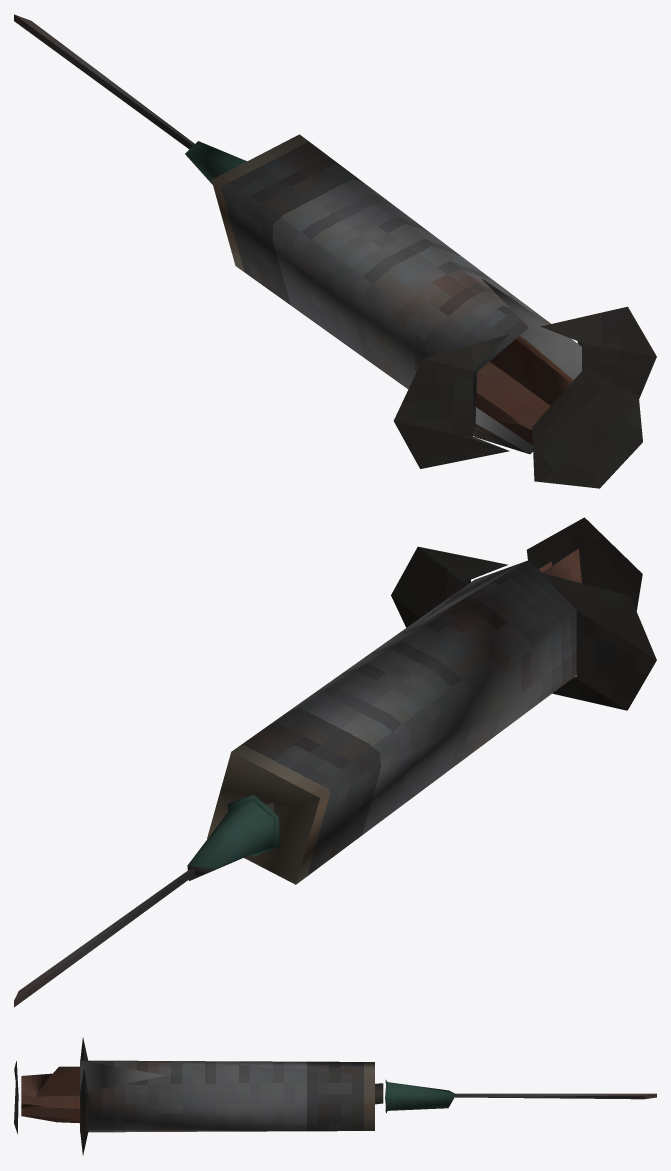
Rendered from syringe_mp_1_1.glb.
3 views of the same model, one above another, from view 1: azimuth 30°, elevation 25°; view 2: azimuth 150°, elevation 25°; view 3: azimuth 270°, elevation 25° (orthographic). The views are drawn at different scales.
Parts seen in each view (by area): view 1: syringe_mp_1_1; view 2: syringe_mp_1_1; view 3: syringe_mp_1_1.
Boxes of the visible parts, x1,y1,x2,y2 form: syringe_mp_1_1: (14,14,656,488); syringe_mp_1_1: (14,517,656,1007); syringe_mp_1_1: (14,1037,656,1155).
Bounding box in the file's own units: 0.0407 × 0.019 × 0.1527.
Materials: 1 (1 with a texture image).
